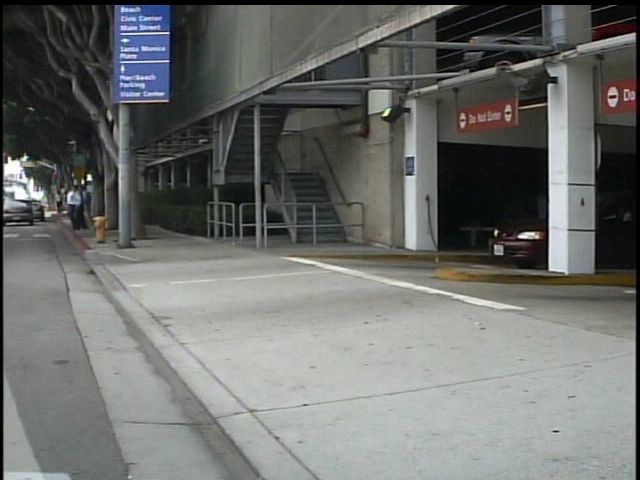person: (57, 186, 73, 220)
